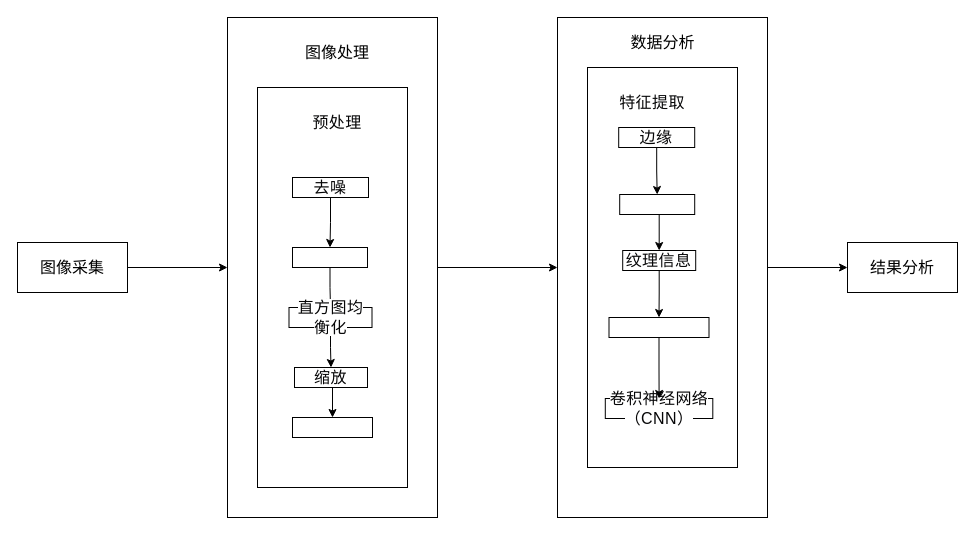
Image size: 975x535. Some labels were removed from this diagram. The shapes that lost their labels are listed below. From the top down, each one's centre as x and y in pixels, then its label:
At (x=657, y=204): "角点".
At (x=330, y=257): "灰度化".
At (x=658, y=327): "局部二值模式（ LBP）".
At (x=332, y=427): "裁剪".
